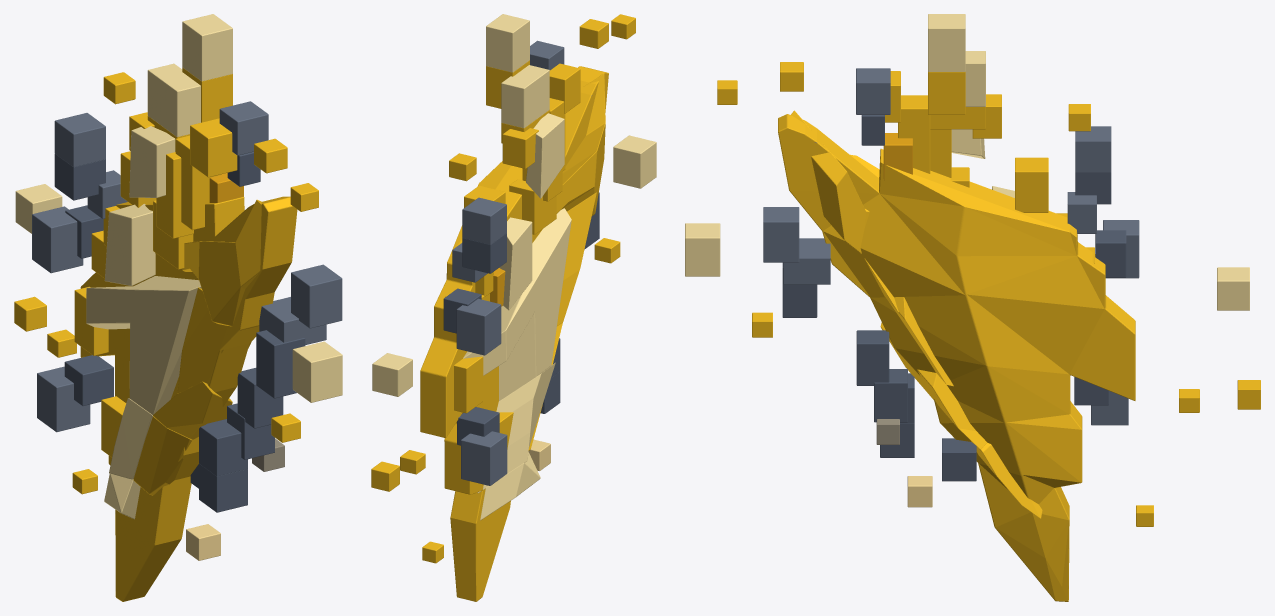
Rendered from SM_Blender_Storm.glb.
3 renders of one model, left to right at view 1: azimuth 30°, elevation 25°; view 2: azimuth 150°, elevation 25°; view 3: azimuth 270°, elevation 25°, orthographic. The views are drawn at different scales.
Parts seen in each view (by area): view 1: SM_Blender_Storm; view 2: SM_Blender_Storm; view 3: SM_Blender_Storm.
Boxes of the visible parts, bbox=[...] form: SM_Blender_Storm: bbox=[14, 14, 342, 601]; SM_Blender_Storm: bbox=[371, 14, 656, 601]; SM_Blender_Storm: bbox=[685, 14, 1260, 601].
Size of the model in its own units: 0.289 by 1.46 by 1.3.
2 materials, 2 textured.
